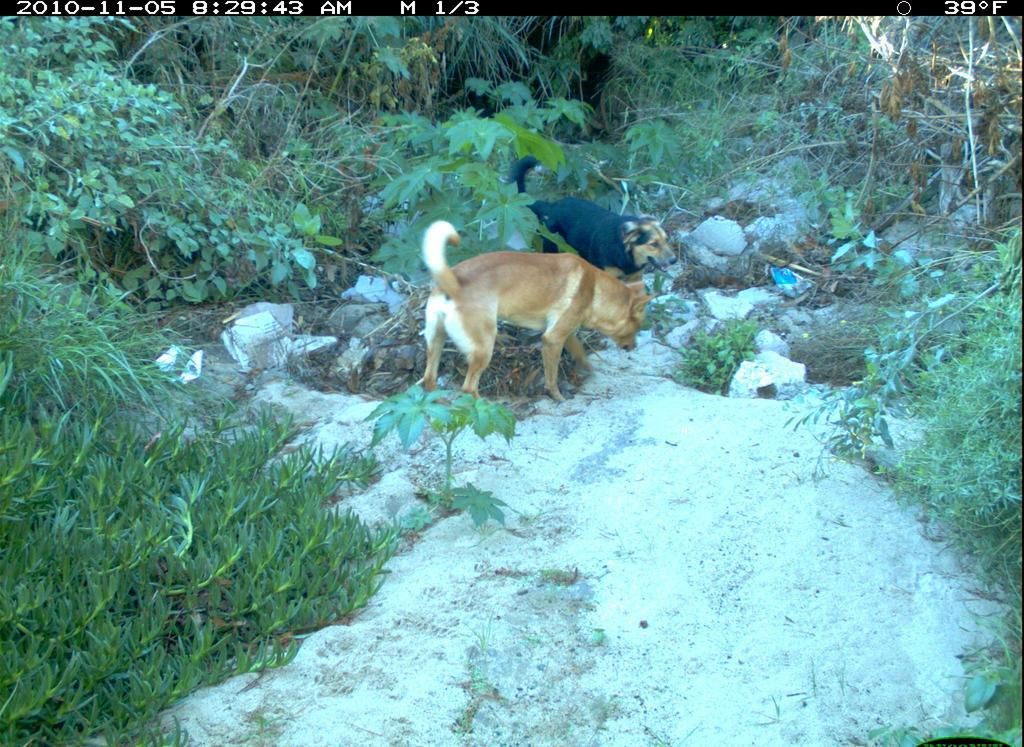dog: (391, 210, 669, 414), (501, 146, 693, 291)
